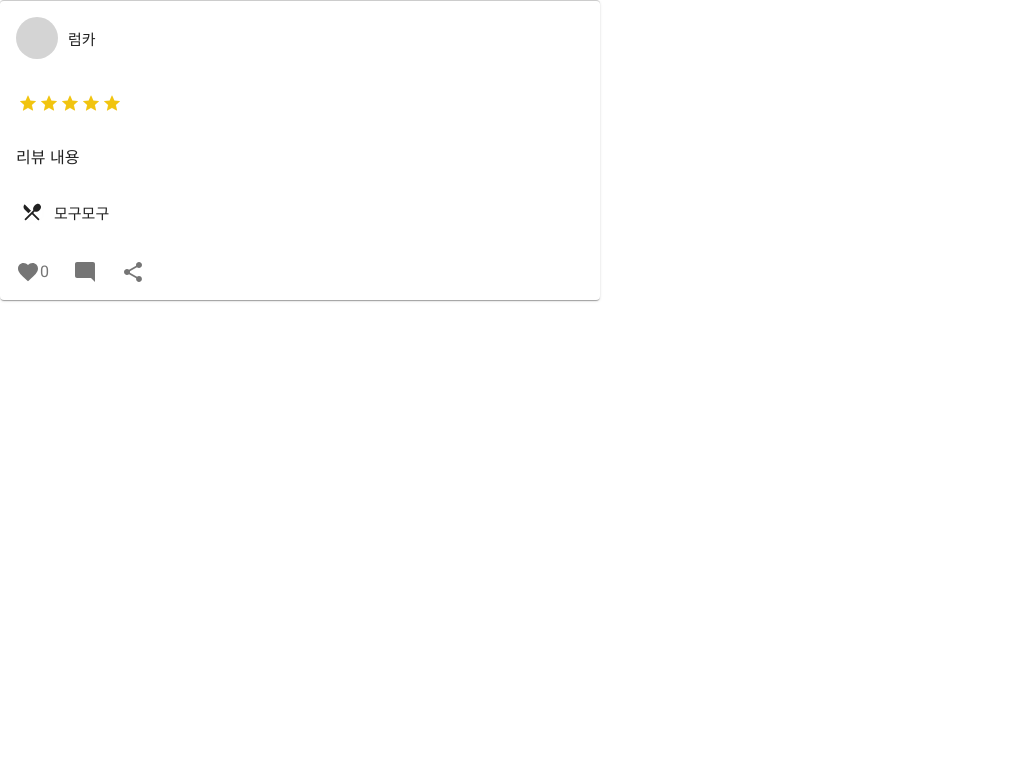
Scenario: Feed › 피드를 클릭하면 리뷰 디테일 모달을 표시한다.
The width and height of the screenshot is (1024, 768).
Click the element with test id "feed-card".
click(300, 150)  # box [0,0,600,300]
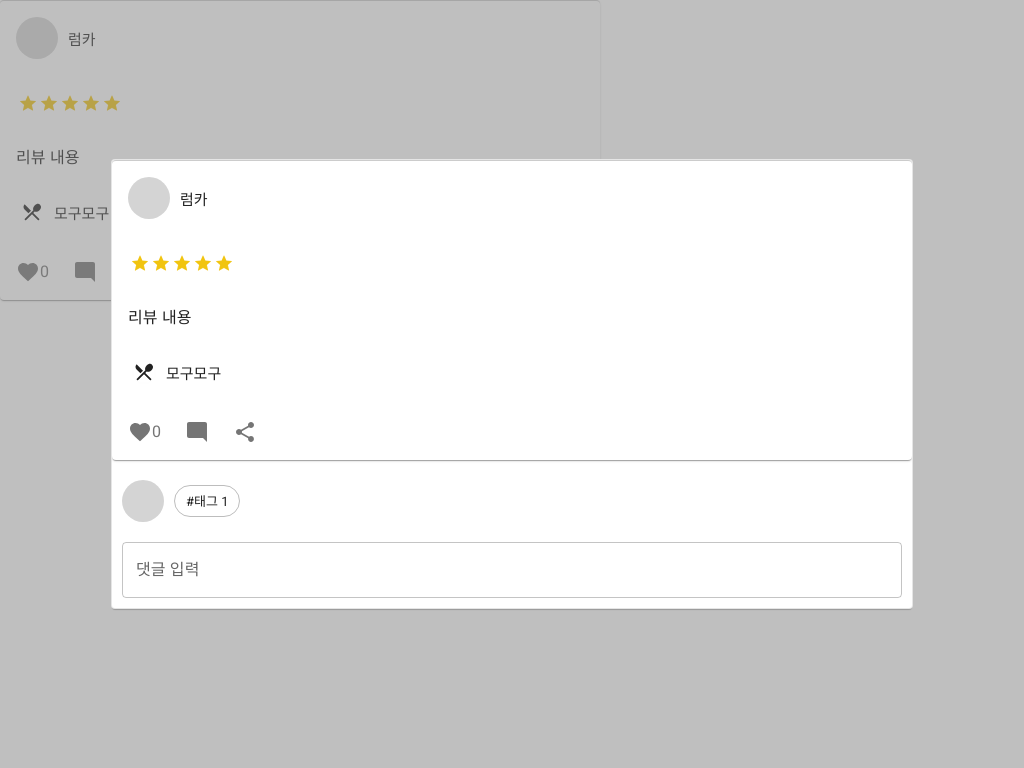
Result: the element with test id "review-detail" is shown at [112,160,912,608]
